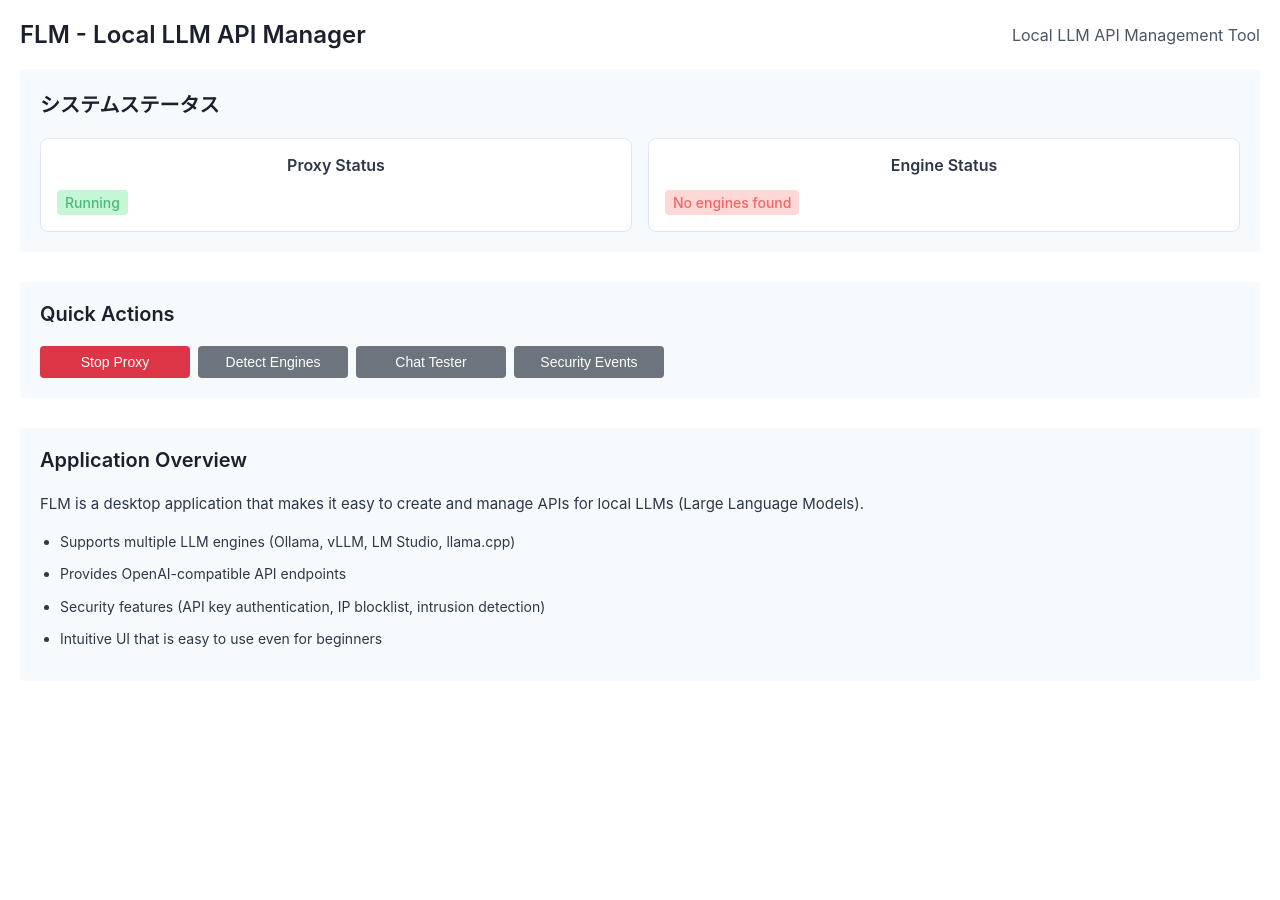
Test: Home › should show error when stopping proxy without port
// i18nを使用しているため、柔軟にチェック
Click the button "Stop Proxy": {"x": 115, "y": 362} [40,346,190,378]
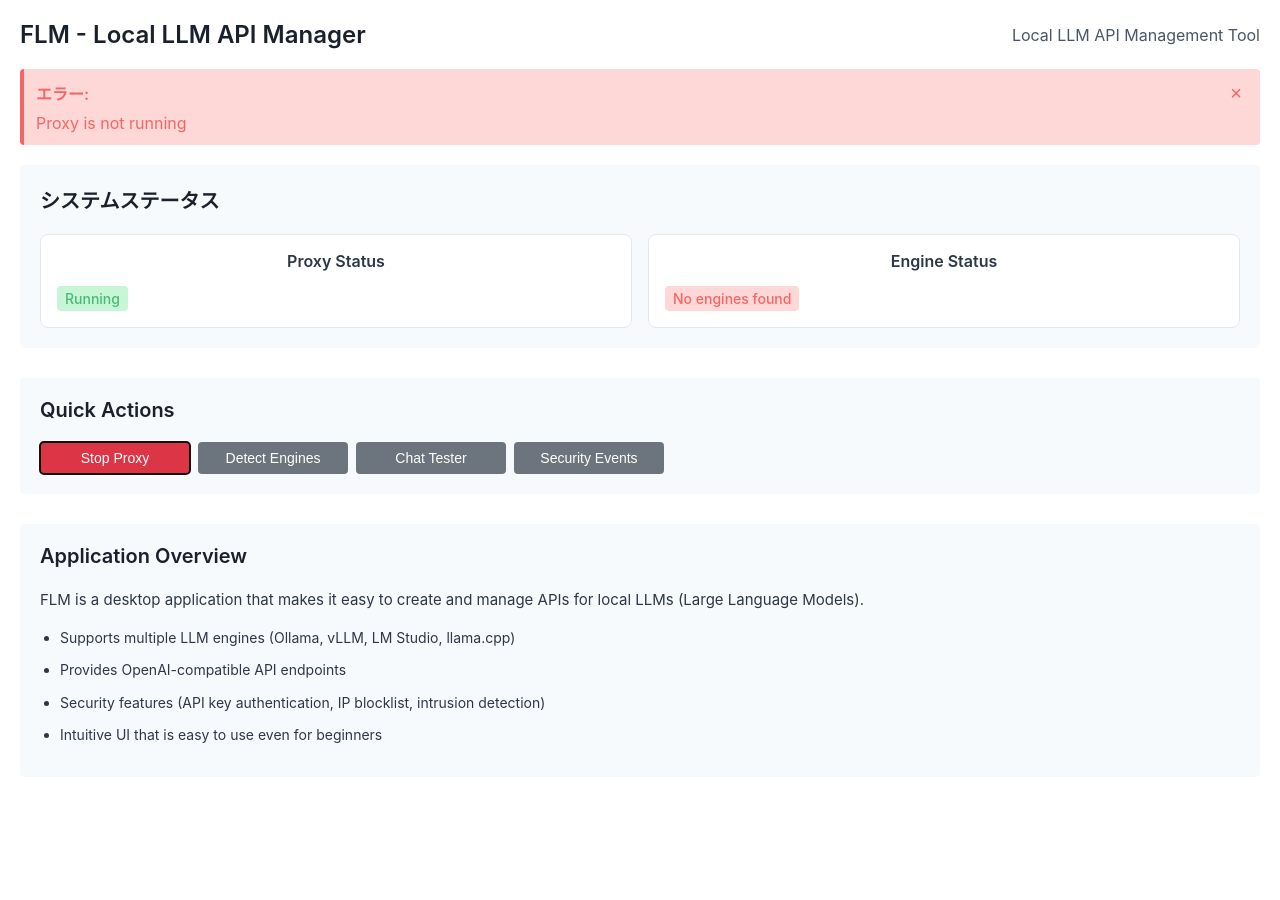
Expected: the text "Proxy is not running" is shown, [36,113,187,133]
